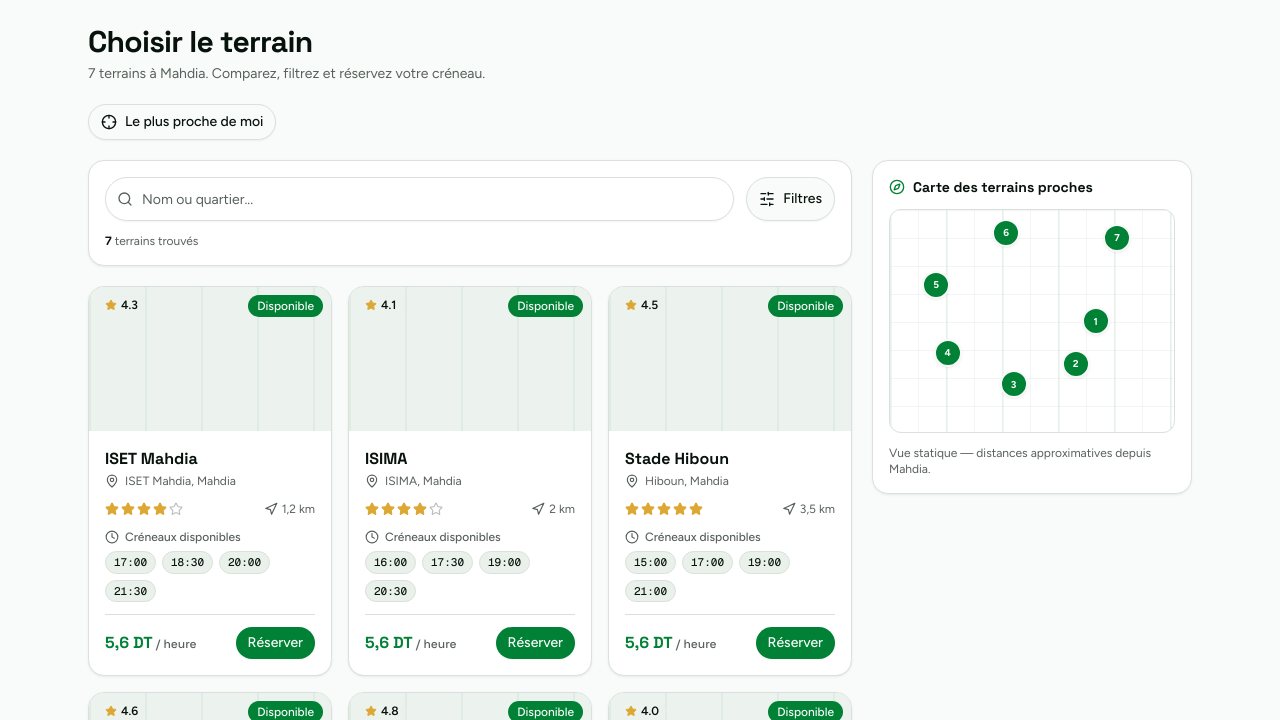
Fields page › filters fields by name via the search box
Expected: the element with test id "fields.card.1" is shown, [88,286,332,676]
Type "Hiboun" into the search field with test id "fields.search_input" at (420, 199), box [105,177,734,221]
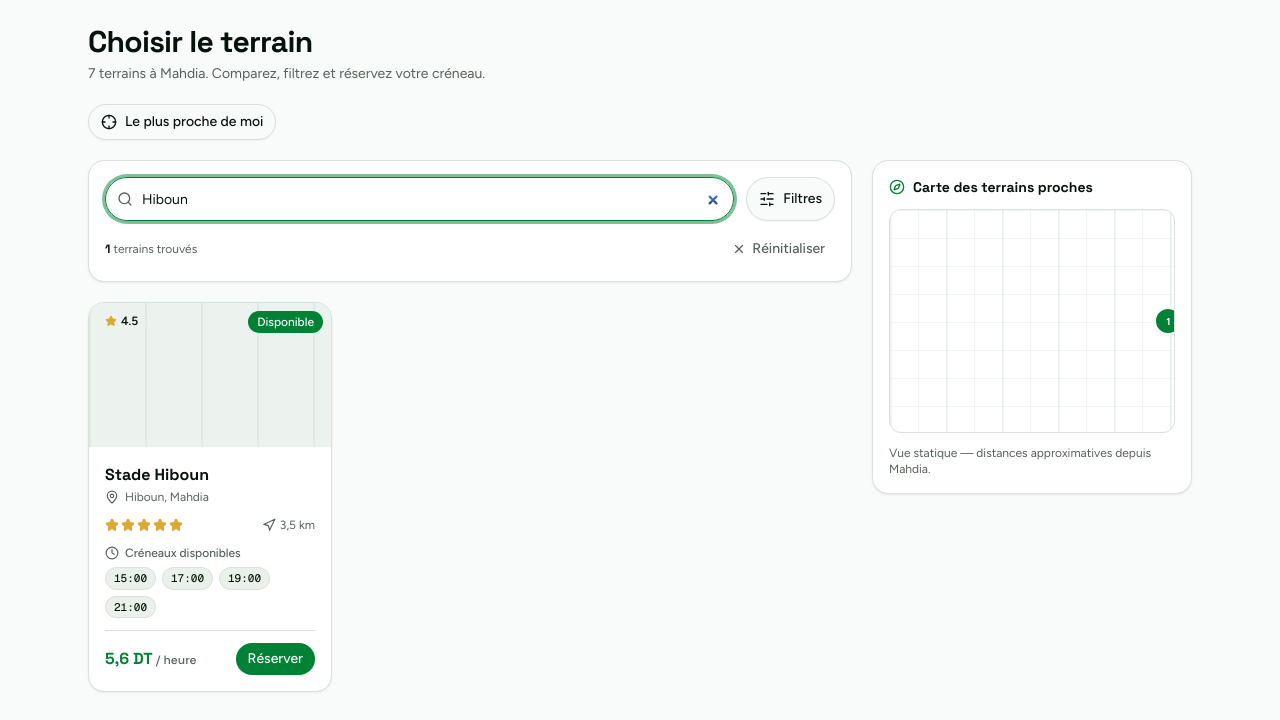
Expected: the element with test id "fields.card.1" shows "Stade Hiboun", [105,464,209,485]
Expected: the element with test id "fields.results_count" shows "1", [105,241,110,257]
